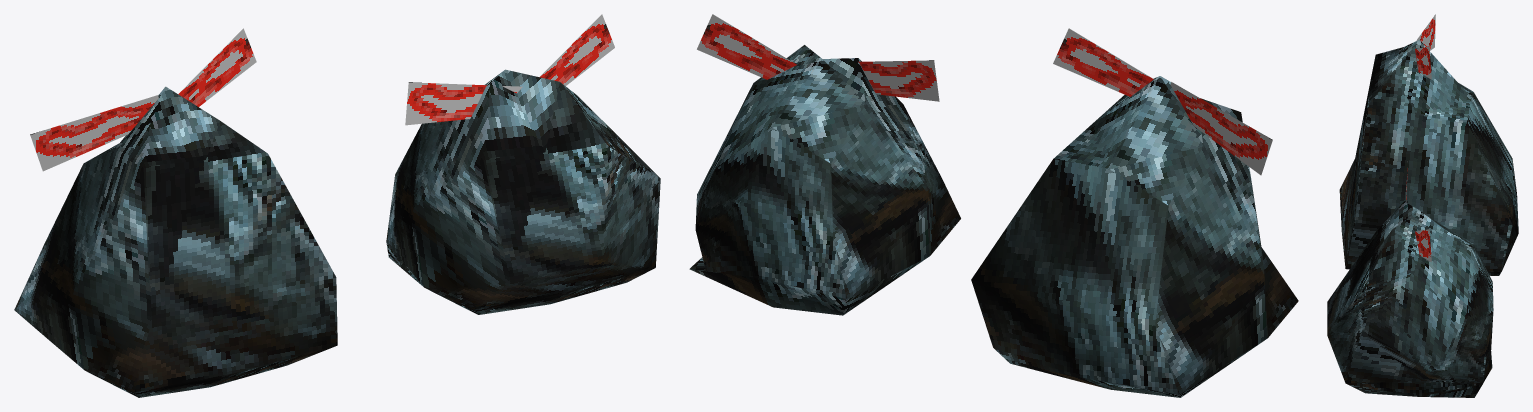
File: Garbage Bag.glb
The picture shows the model from 3 angles, left to right: view 1: azimuth 30°, elevation 25°; view 2: azimuth 150°, elevation 25°; view 3: azimuth 270°, elevation 25°; orthographic projection. The views are drawn at different scales.
Visible parts, largest first — view 1: garbage_bag_1, garbage_bag_2; view 2: garbage_bag_1, garbage_bag_2; view 3: garbage_bag_1, garbage_bag_2.
Boxes of the visible parts, bbox=[...] form: garbage_bag_1: bbox=[14, 28, 337, 397]; garbage_bag_2: bbox=[386, 14, 660, 314]; garbage_bag_1: bbox=[971, 28, 1298, 397]; garbage_bag_2: bbox=[689, 14, 960, 315]; garbage_bag_1: bbox=[1339, 14, 1518, 275]; garbage_bag_2: bbox=[1327, 161, 1493, 397].
Bounding box in the file's own units: 6.39 × 3.27 × 2.47.
Materials: 1 (1 with a texture image).
